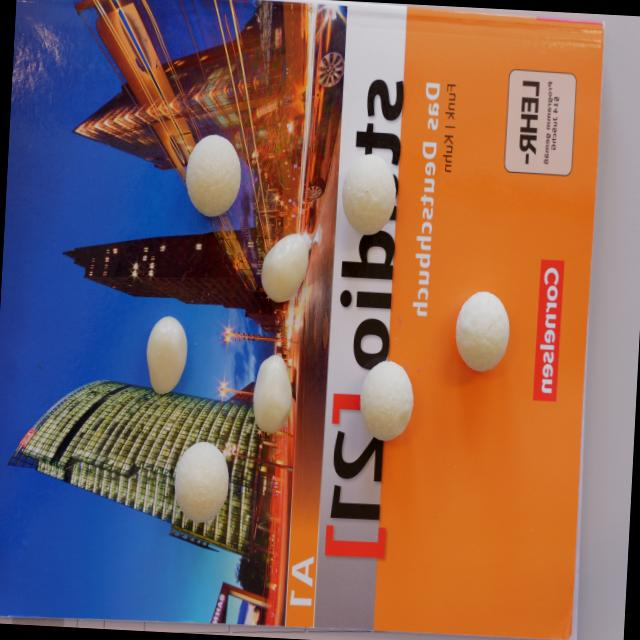Comtesse: (184, 134, 244, 218), (453, 289, 512, 373), (172, 439, 230, 524), (358, 359, 416, 442), (342, 153, 396, 236)
Jelly_White: (146, 314, 190, 396), (252, 352, 296, 434), (261, 231, 311, 303)
